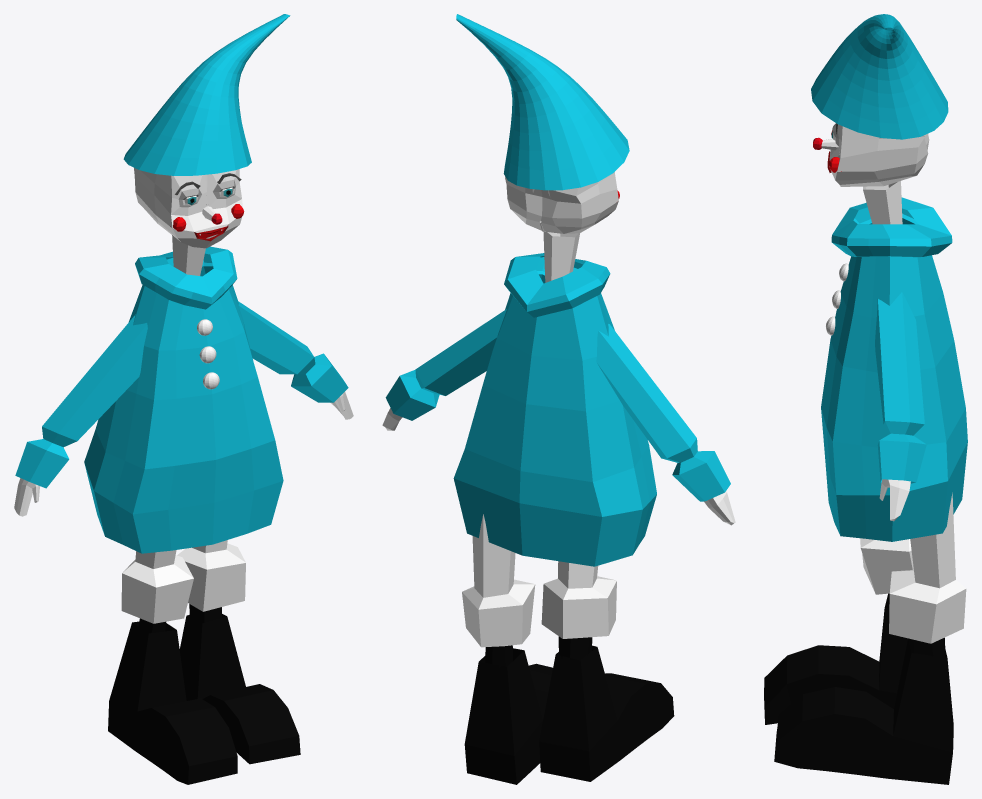
The model's file is bart2.0.glb.
3 views of the same model, side by side, from view 1: azimuth 30°, elevation 25°; view 2: azimuth 150°, elevation 25°; view 3: azimuth 270°, elevation 25° (orthographic). The views are drawn at different scales.
Visible parts, largest first — view 1: Cylinder.003, Cylinder.001, Cylinder.002, Cylinder.005, Cylinder.007; view 2: Cylinder.003, Cylinder.001, Cylinder.002, Cylinder.005, Cylinder.007; view 3: Cylinder.003, Cylinder.002, Cylinder.001, Cylinder.007.
Part boxes in pixels (x1=…): Cylinder.003: x1=84, y1=14, x2=290, y2=553; Cylinder.001: x1=108, y1=550, x2=237, y2=784; Cylinder.002: x1=177, y1=540, x2=300, y2=764; Cylinder.005: x1=14, y1=314, x2=147, y2=516; Cylinder.007: x1=238, y1=301, x2=353, y2=419; Cylinder.003: x1=453, y1=14, x2=656, y2=566; Cylinder.001: x1=539, y1=561, x2=674, y2=781; Cylinder.002: x1=462, y1=514, x2=552, y2=784; Cylinder.005: x1=596, y1=324, x2=735, y2=525; Cylinder.007: x1=382, y1=309, x2=506, y2=430; Cylinder.003: x1=811, y1=14, x2=967, y2=541; Cylinder.002: x1=774, y1=492, x2=966, y2=784; Cylinder.001: x1=764, y1=538, x2=913, y2=724; Cylinder.007: x1=875, y1=292, x2=926, y2=521.
Size of the model in its own units: 11.53 by 23.18 by 5.51.
